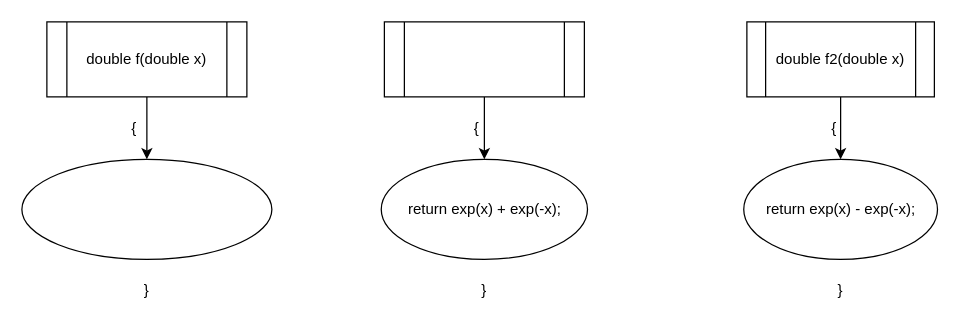
The diagram is 960 pixels wide and 331 high, and some of its shapes have lost their labels. Here are the shapes that lost their labels. From the top down, the box of each, then its label:
(383, 21, 584, 97): double f1(double x)
(21, 158, 272, 259): return exp(x) - exp(-x) - 2;
